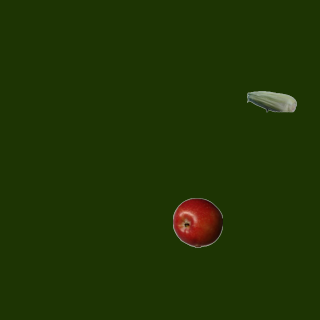Apple Braeburn: (172, 197, 222, 247)
Corn Husk: (246, 76, 296, 126)
